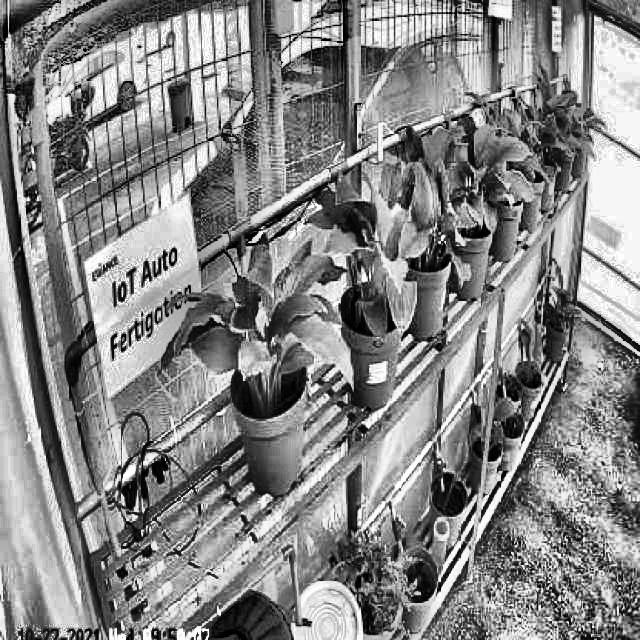plants: (159, 232, 353, 431), (368, 146, 472, 297), (320, 183, 420, 337), (418, 117, 532, 245)
